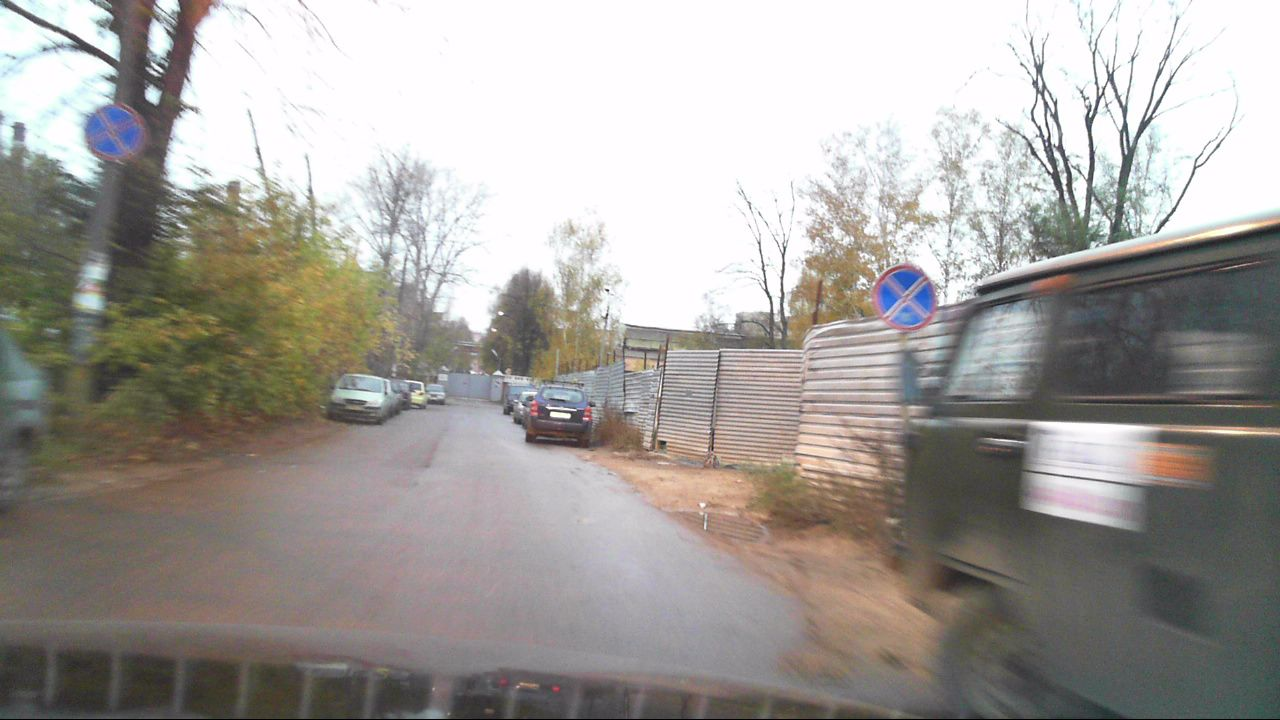No Parking: (871, 265, 936, 330)
